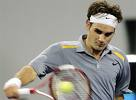tennis ball: (55, 78, 75, 95)
